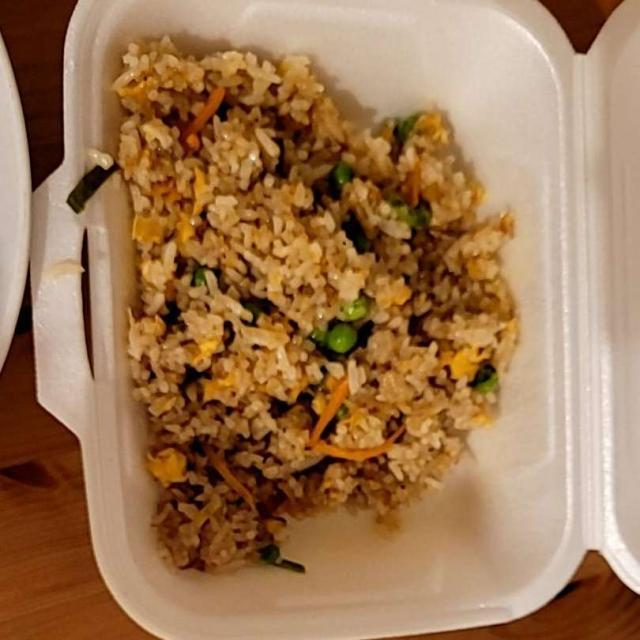fried-rice: (119, 51, 514, 563)
